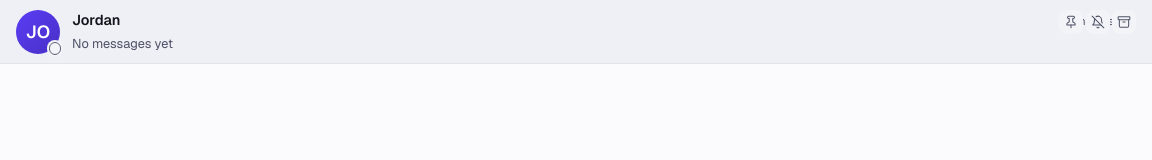
Conversations › pins at once, and says so if the server refuses — putting it back
The width and height of the screenshot is (1152, 160).
Click the button named "Pin Jordan".
click(1071, 22)  # box [1059, 10, 1083, 34]
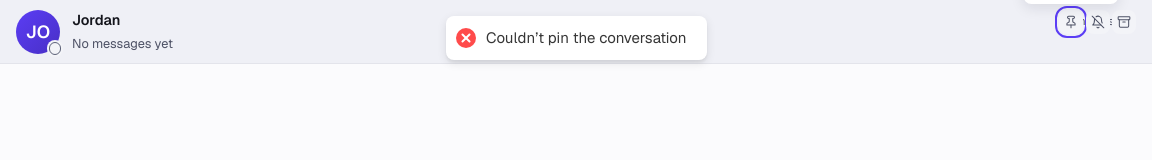
Expected: the text "Couldn’t pin the conversation" is shown, [486, 28, 686, 48]
